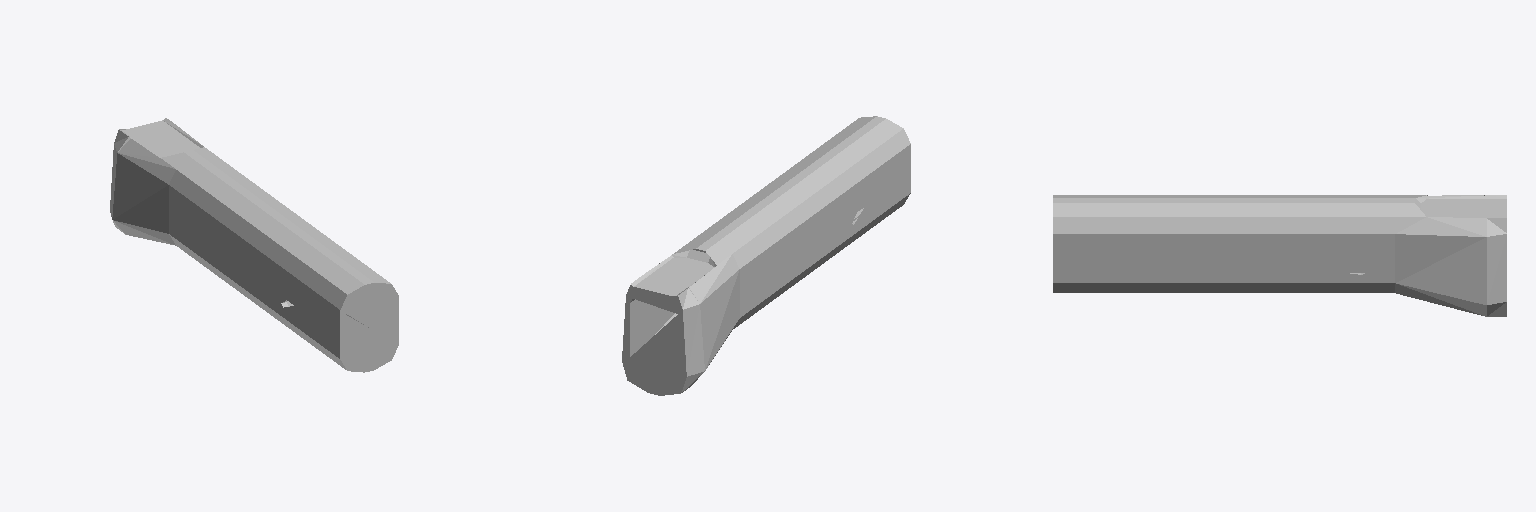
The model's file is Grip1.obj.
3 views of the same model, side by side, from view 1: azimuth 30°, elevation 25°; view 2: azimuth 150°, elevation 25°; view 3: azimuth 270°, elevation 25° (orthographic).
Visible parts, largest first — view 1: Cube.020; view 2: Cube.020; view 3: Cube.020.
Boxes of the visible parts, <box> form: Cube.020: <box>110,118,398,372</box>; Cube.020: <box>622,116,910,395</box>; Cube.020: <box>1053,195,1506,316</box>.
Bounding box in the file's own units: 0.2061 × 0.2705 × 1.